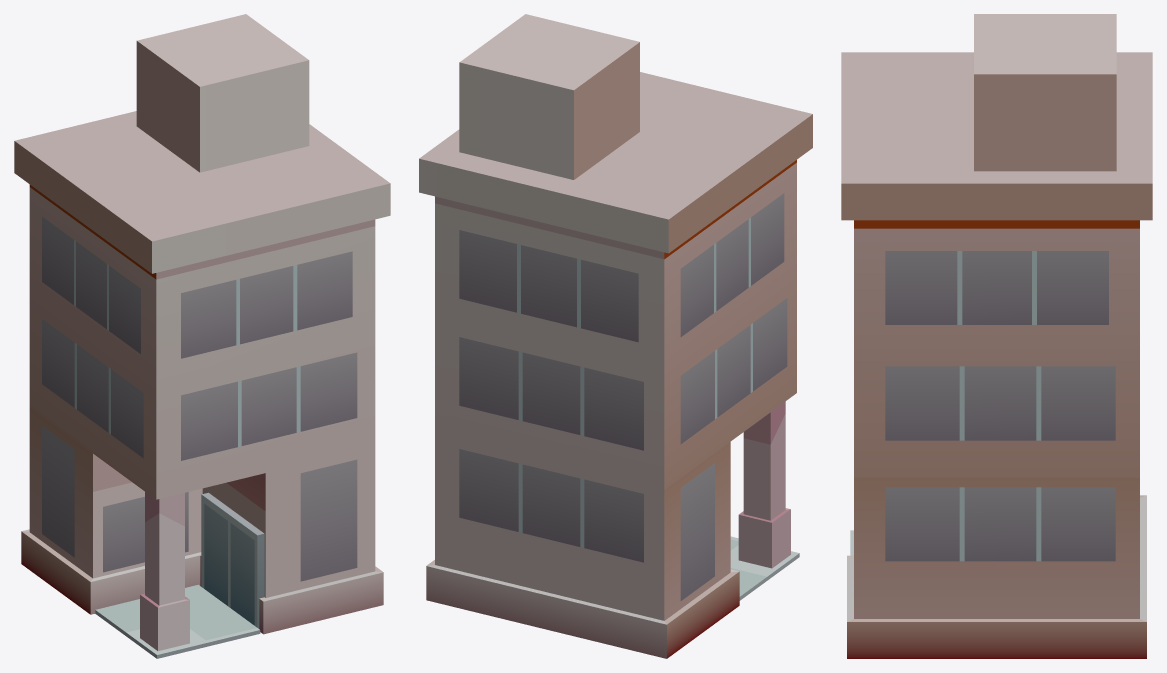
The model's file is build_e.glb.
The picture shows the model from 3 angles, left to right: view 1: azimuth 30°, elevation 25°; view 2: azimuth 150°, elevation 25°; view 3: azimuth 270°, elevation 25°; orthographic projection. The views are drawn at different scales.
Parts seen in each view (by area): view 1: build_e; view 2: build_e; view 3: build_e.
Part boxes in pixels (bbox=[...]): build_e: bbox=[14, 14, 390, 658]; build_e: bbox=[419, 14, 812, 658]; build_e: bbox=[841, 14, 1152, 658].
Size of the model in its own units: 1.09 by 2.22 by 1.09.
